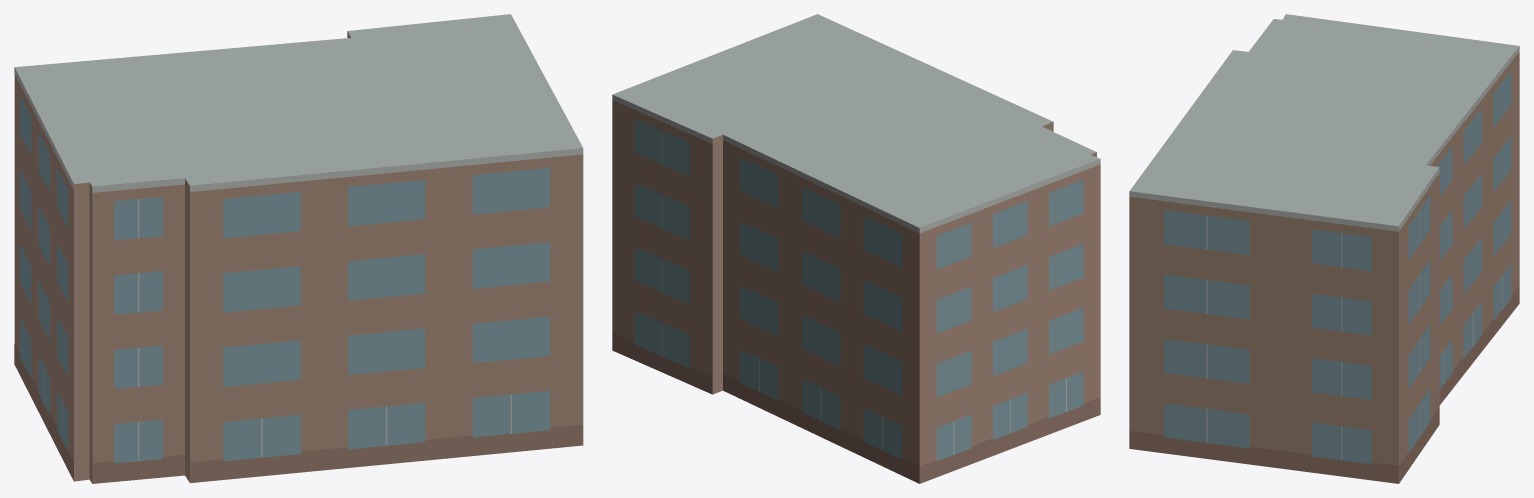
The model's file is survey-upis-32898708.glb.
The picture shows the model from 3 angles, left to right: view 1: azimuth 30°, elevation 25°; view 2: azimuth 150°, elevation 25°; view 3: azimuth 270°, elevation 25°; orthographic projection. The views are drawn at different scales.
Visible parts, largest first — view 1: survey-upis-32898708.tmp; view 2: survey-upis-32898708.tmp; view 3: survey-upis-32898708.tmp.
Part boxes in pixels (x1=…): survey-upis-32898708.tmp: x1=14, y1=14, x2=583, y2=483; survey-upis-32898708.tmp: x1=612, y1=14, x2=1100, y2=483; survey-upis-32898708.tmp: x1=1129, y1=14, x2=1519, y2=483.
Bounding box in the file's own units: 20.34 × 11.5 × 15.8.
